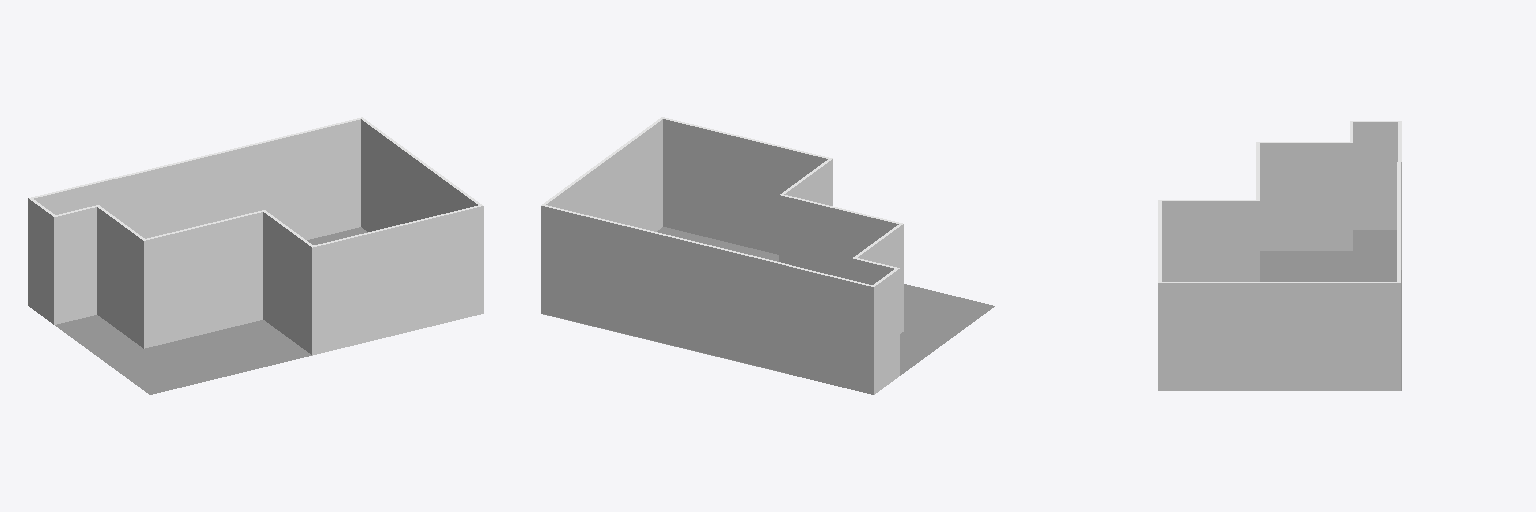
3 renders of one model, left to right at view 1: azimuth 30°, elevation 25°; view 2: azimuth 150°, elevation 25°; view 3: azimuth 270°, elevation 25°, orthographic.
Visible parts, largest first — view 1: wall_1_6, wall_3_15, wall_5_27, ground_1, wall_2_12, wall_4_21, wall_6_33, wall_7_39, wall_8_45, wall_9_54; view 2: wall_1_3, wall_3_18, wall_9_51, wall_2_12, wall_5_30, ground_1, wall_8_45, wall_6_33, wall_4_21, wall_7_42; view 3: wall_2_9, wall_6_36, wall_4_24, ground_1, wall_8_48.
Boxes of the visible parts, <box> form: wall_1_6: <box>116,119,360,239</box>; wall_3_15: <box>312,206,483,355</box>; wall_5_27: <box>144,212,262,348</box>; ground_1: <box>55,227,367,394</box>; wall_2_12: <box>361,119,477,231</box>; wall_4_21: <box>263,212,311,354</box>; wall_6_33: <box>97,207,143,348</box>; wall_7_39: <box>54,207,96,324</box>; wall_8_45: <box>28,198,53,324</box>; wall_9_54: <box>34,179,115,216</box>; wall_1_3: <box>541,206,787,373</box>; wall_3_18: <box>663,119,827,254</box>; wall_9_51: <box>788,266,873,394</box>; wall_2_12: <box>546,119,662,231</box>; wall_5_30: <box>779,195,898,279</box>; ground_1: <box>543,227,994,375</box>; wall_8_45: <box>874,269,899,394</box>; wall_6_33: <box>858,224,903,333</box>; wall_4_21: <box>784,159,832,205</box>; wall_7_42: <box>852,258,893,284</box>; wall_2_9: <box>1158,283,1400,390</box>; wall_6_36: <box>1260,143,1352,250</box>; wall_4_24: <box>1162,201,1259,281</box>; ground_1: <box>1260,230,1401,390</box>; wall_8_48: <box>1353,122,1397,229</box>.
Size of the model in its own units: 810 by 250 by 512.